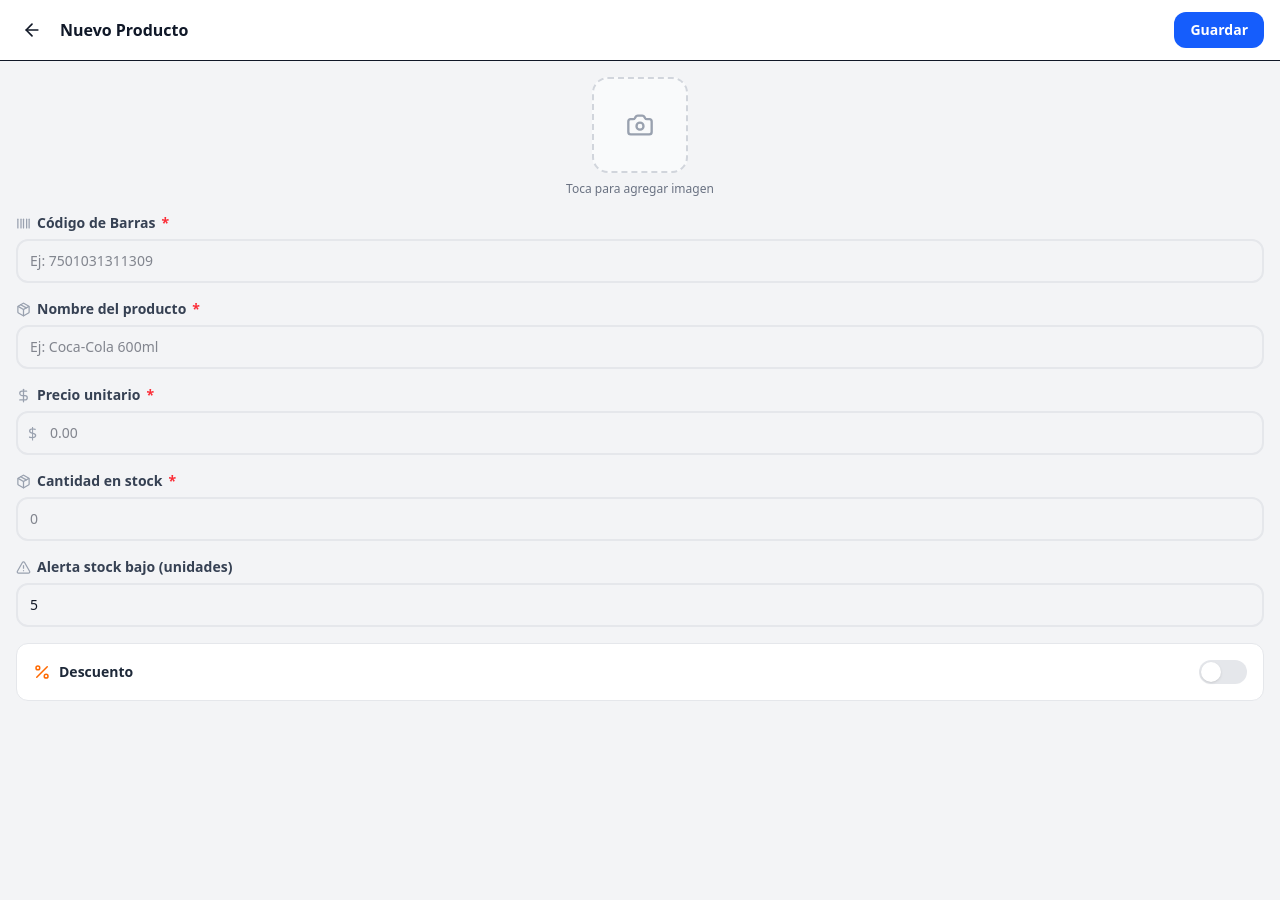
Scenario: ProductForm — validation › shows error when name is empty on submit
Type "1234567890" into the field with placeholder "Ej: 7501031311309" at (640, 261), box [16,239,1264,283]
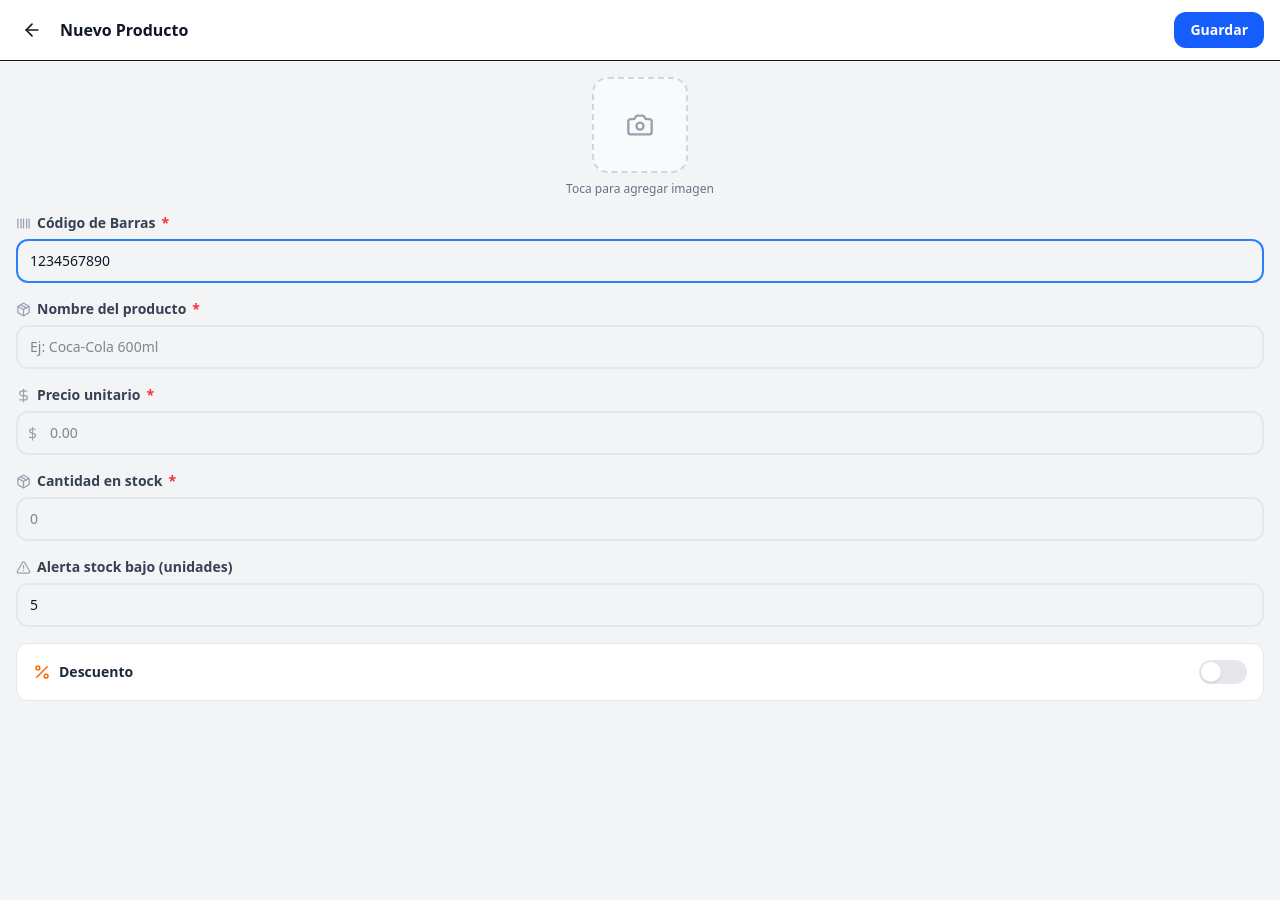
Click the button "Guardar" at (1219, 30), box [1174,12,1264,48]
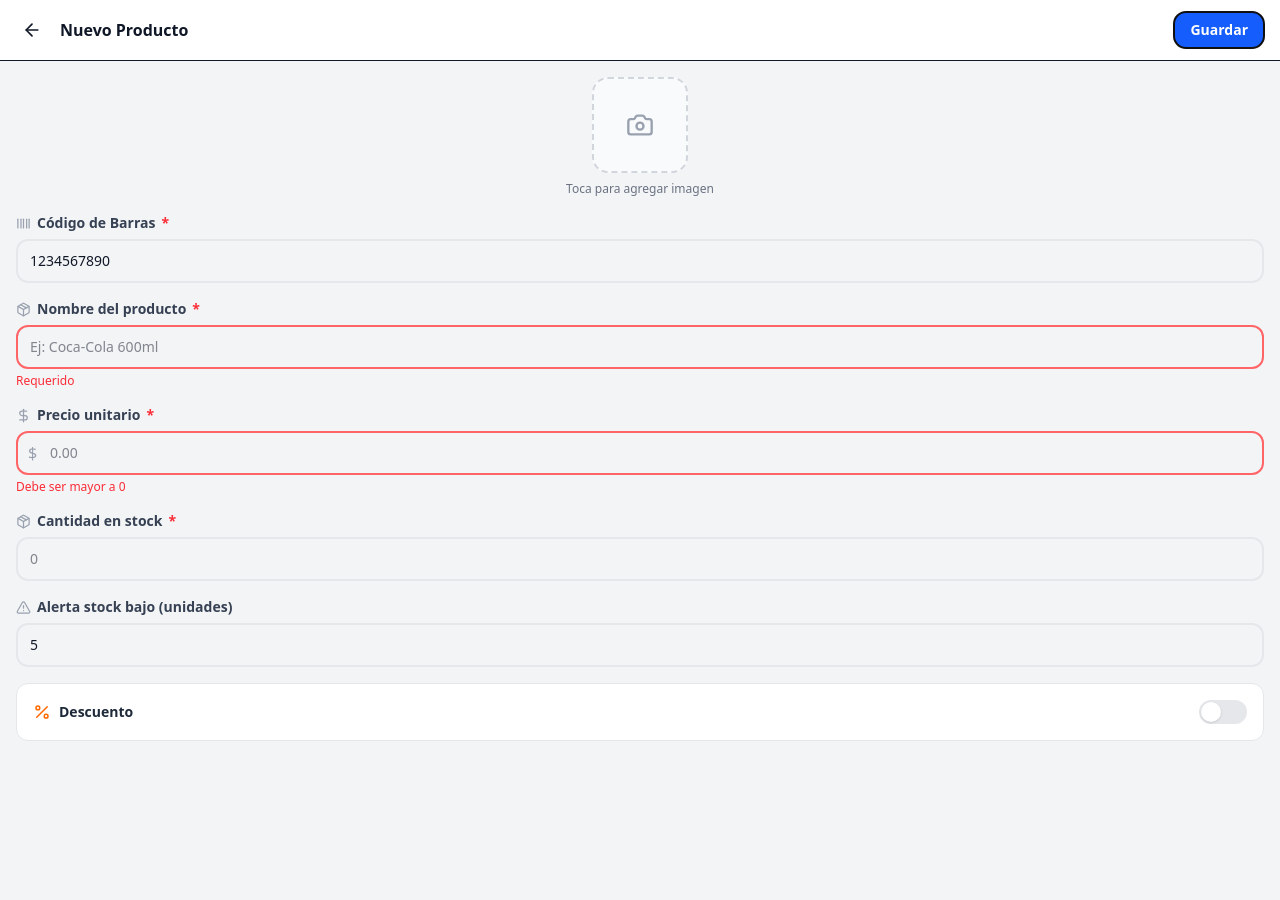
expect the text "Requerido" is shown: met, box [16,372,74,389]
